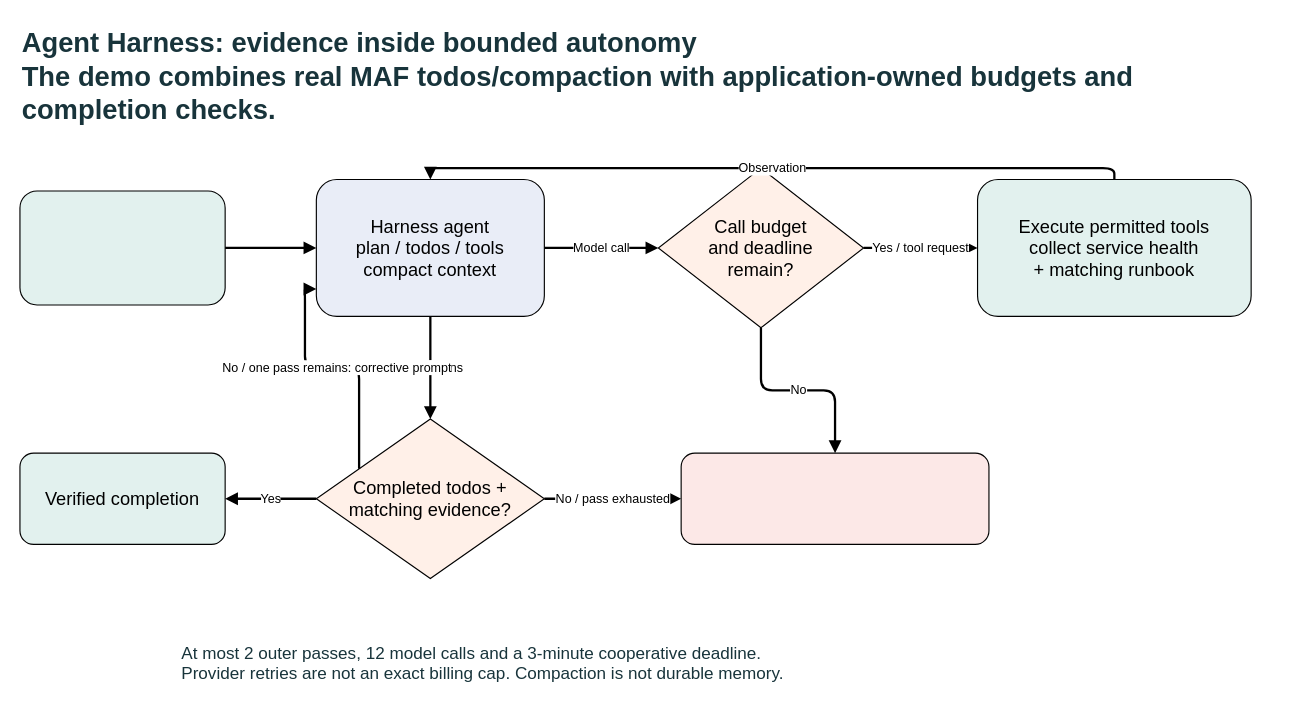
The diagram is 1294 pixels wide and 723 high, and some of its shapes have lost their labels. The centre of each missing label's shape, as x and y in pixels:
Incomplete / explicit error no premature success: [834,498]
Task + service identity: [122,247]
